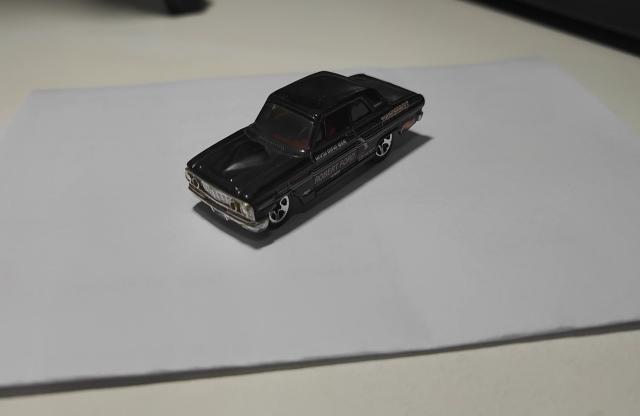01_FORD: (185, 72, 425, 243)
